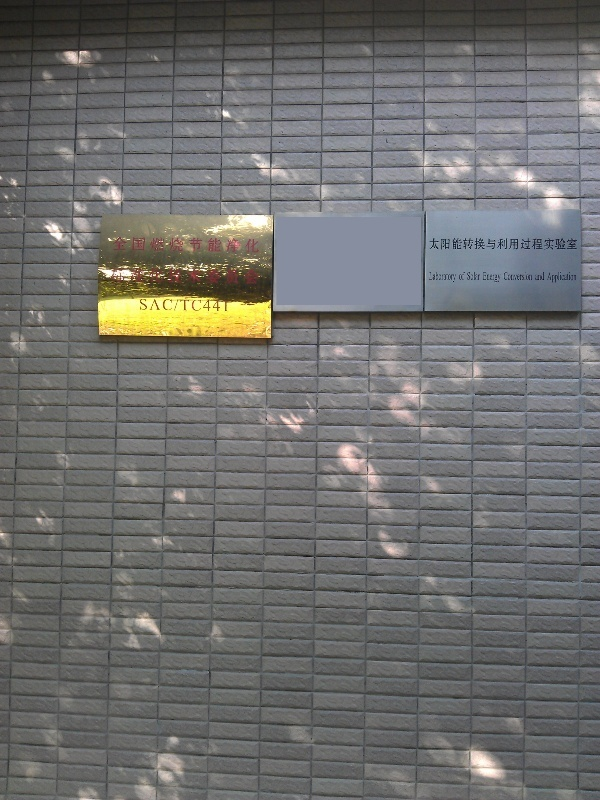text: (113, 267, 128, 286), (129, 267, 144, 286), (145, 267, 160, 286), (161, 267, 176, 286), (177, 267, 192, 286), (193, 267, 208, 286), (209, 267, 224, 286), (225, 267, 240, 286), (241, 267, 256, 286), (113, 237, 128, 254), (129, 237, 144, 254), (145, 237, 160, 254), (161, 237, 176, 254), (177, 237, 192, 254), (193, 237, 208, 254), (209, 237, 224, 254), (225, 237, 240, 254), (241, 237, 256, 254), (145, 298, 160, 312), (161, 298, 176, 312), (177, 298, 192, 312), (193, 298, 208, 312), (209, 298, 224, 312), (433, 238, 448, 251), (449, 238, 464, 251), (465, 238, 480, 251), (481, 238, 496, 251), (497, 238, 512, 251), (513, 238, 528, 251), (529, 238, 544, 251), (545, 238, 560, 251), (561, 238, 576, 251), (561, 272, 577, 283), (433, 272, 448, 283), (483, 272, 496, 284), (513, 272, 528, 281), (548, 272, 560, 283), (467, 272, 480, 281), (257, 237, 262, 254), (503, 272, 512, 281), (535, 272, 544, 281), (449, 272, 456, 283), (257, 267, 261, 286), (140, 298, 144, 312), (225, 298, 229, 312), (497, 272, 501, 284), (459, 272, 464, 281), (429, 238, 432, 251), (110, 267, 112, 286), (529, 272, 533, 281), (429, 272, 432, 283), (111, 237, 112, 254), (577, 238, 578, 251)
